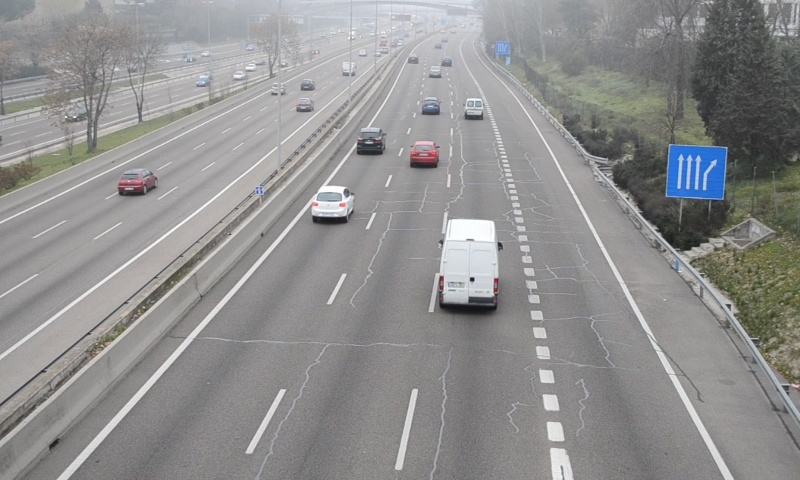car: (312, 185, 352, 218), (356, 126, 384, 153), (410, 140, 438, 166), (421, 96, 440, 115)
van: (439, 219, 500, 309), (464, 97, 485, 121)
